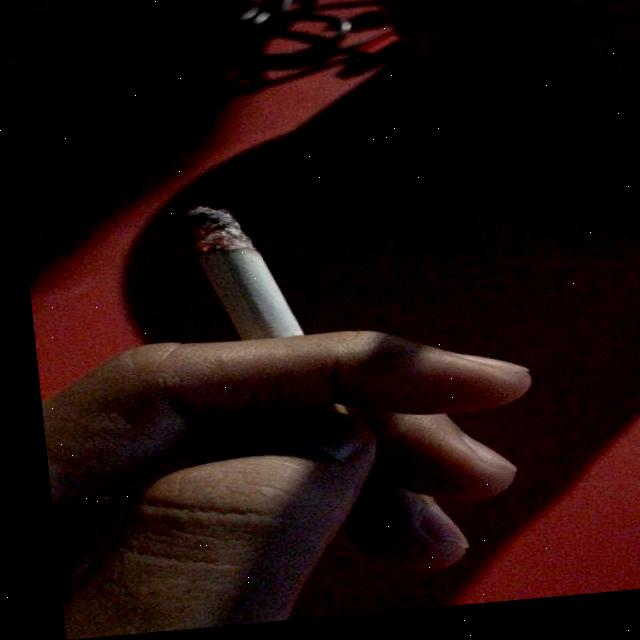cigarette: (184, 200, 340, 429)
